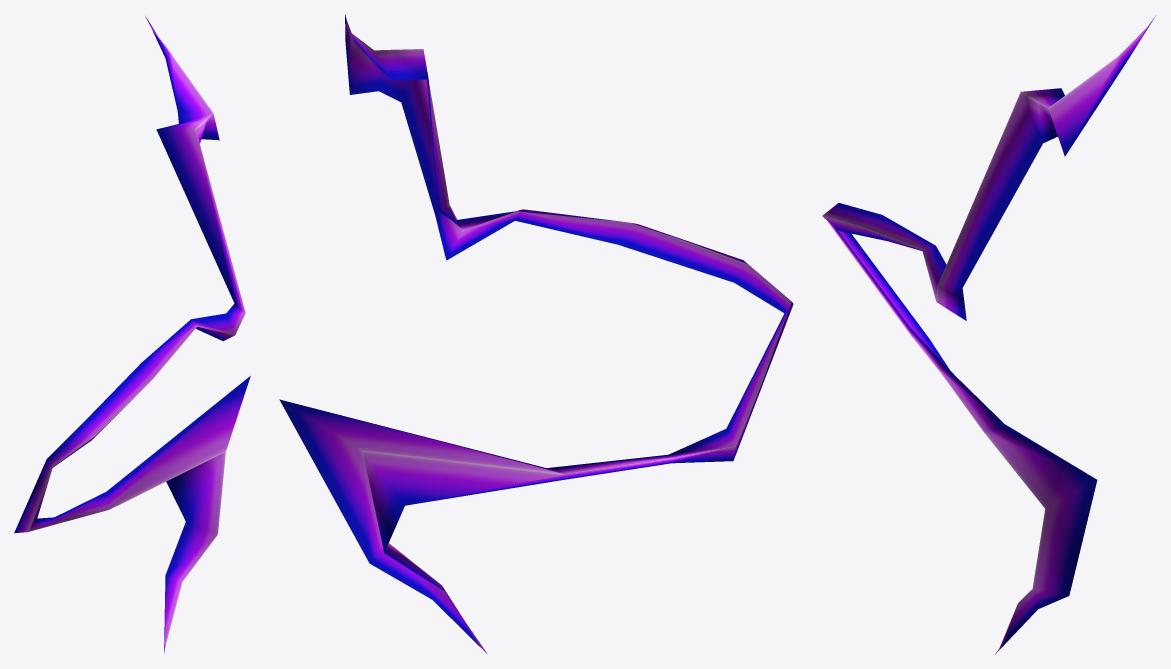
Rendered from lightning_02.fbx.
The picture shows the model from 3 angles, left to right: view 1: azimuth 30°, elevation 25°; view 2: azimuth 150°, elevation 25°; view 3: azimuth 270°, elevation 25°; orthographic projection. The views are drawn at different scales.
Parts seen in each view (by area): view 1: lightning_02; view 2: lightning_02; view 3: lightning_02.
Part boxes in pixels (box(x1,y1,x2,y2)): lightning_02: box(14, 16, 250, 653); lightning_02: box(279, 14, 793, 653); lightning_02: box(822, 16, 1155, 654).
Bounding box in the file's own units: 38.05 × 66.15 × 30.
